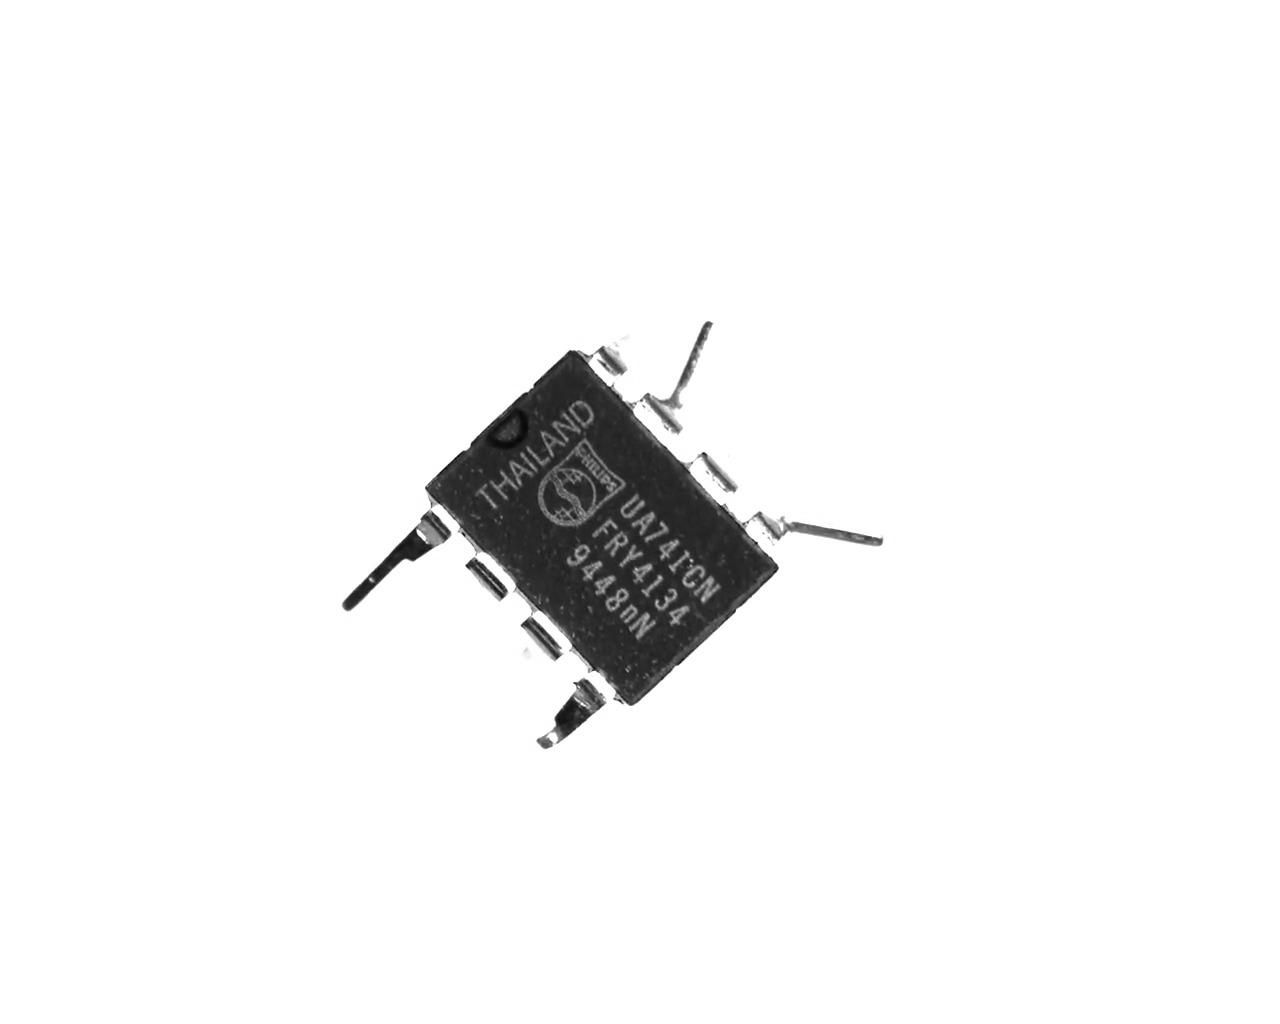Leg: (336, 503, 443, 613), (629, 315, 718, 437), (746, 502, 890, 559), (527, 674, 611, 753), (583, 327, 638, 389), (515, 611, 580, 662), (457, 548, 513, 604), (686, 448, 739, 507)
